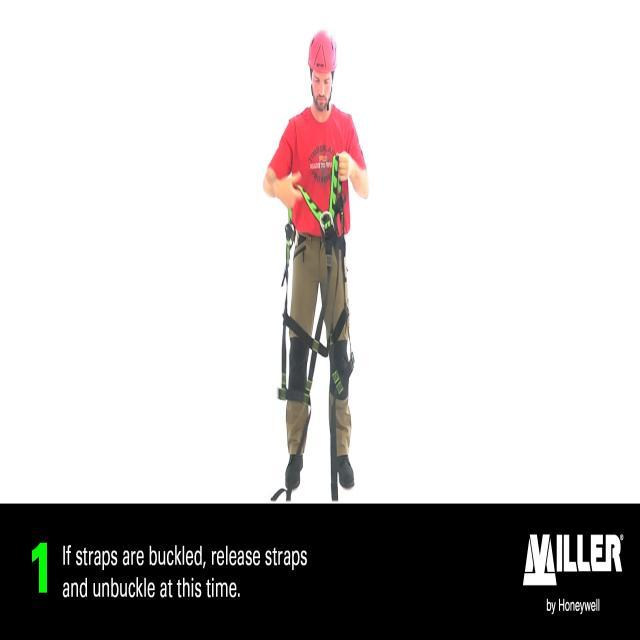belt: (273, 158, 353, 508), (46, 6, 48, 10)
